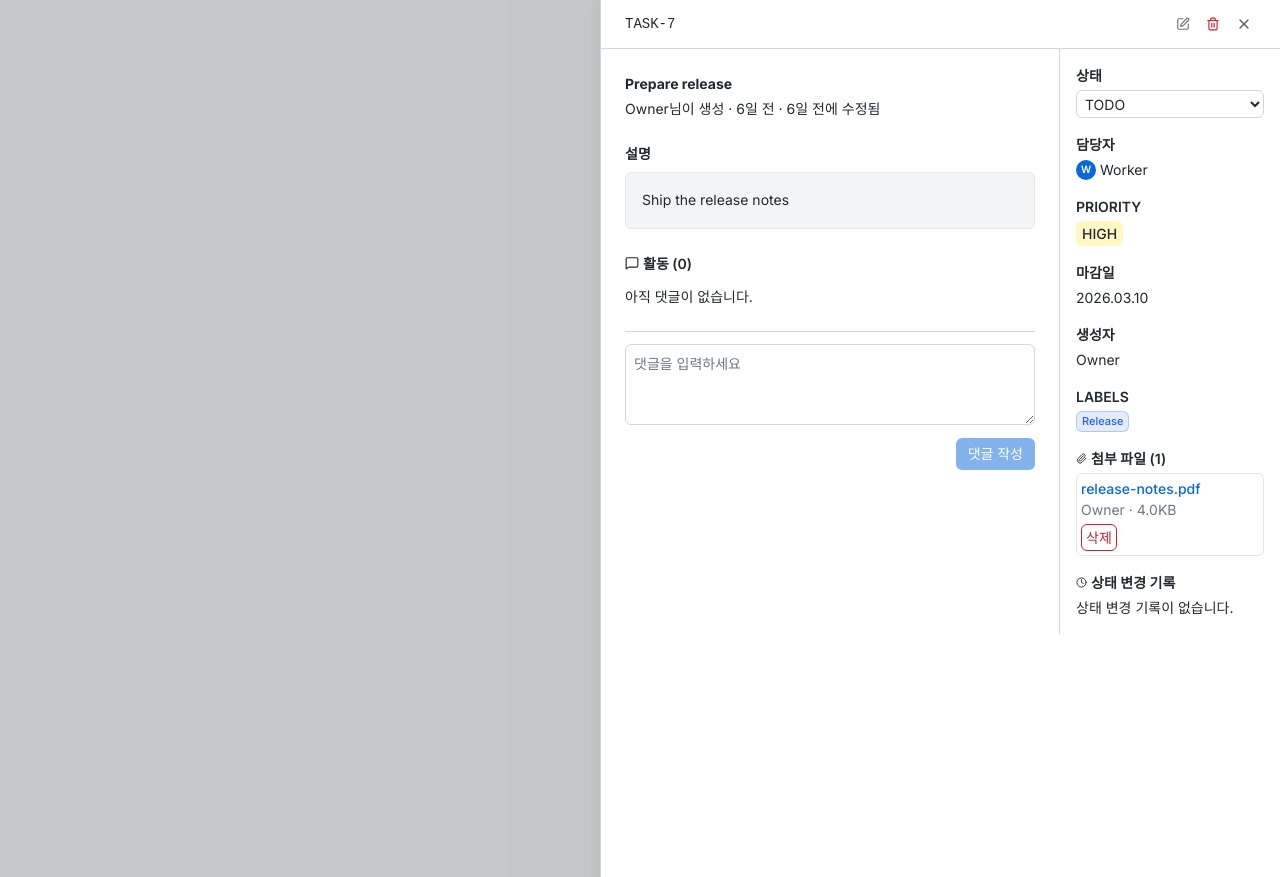
TaskDetailDrawer › edits task details and notifies parent after save
Check: the heading "Prepare release" is shown, box [625, 75, 732, 92]
Click the button named "Edit task". click: {"x": 1183, "y": 24}
box: [1172, 13, 1194, 35]
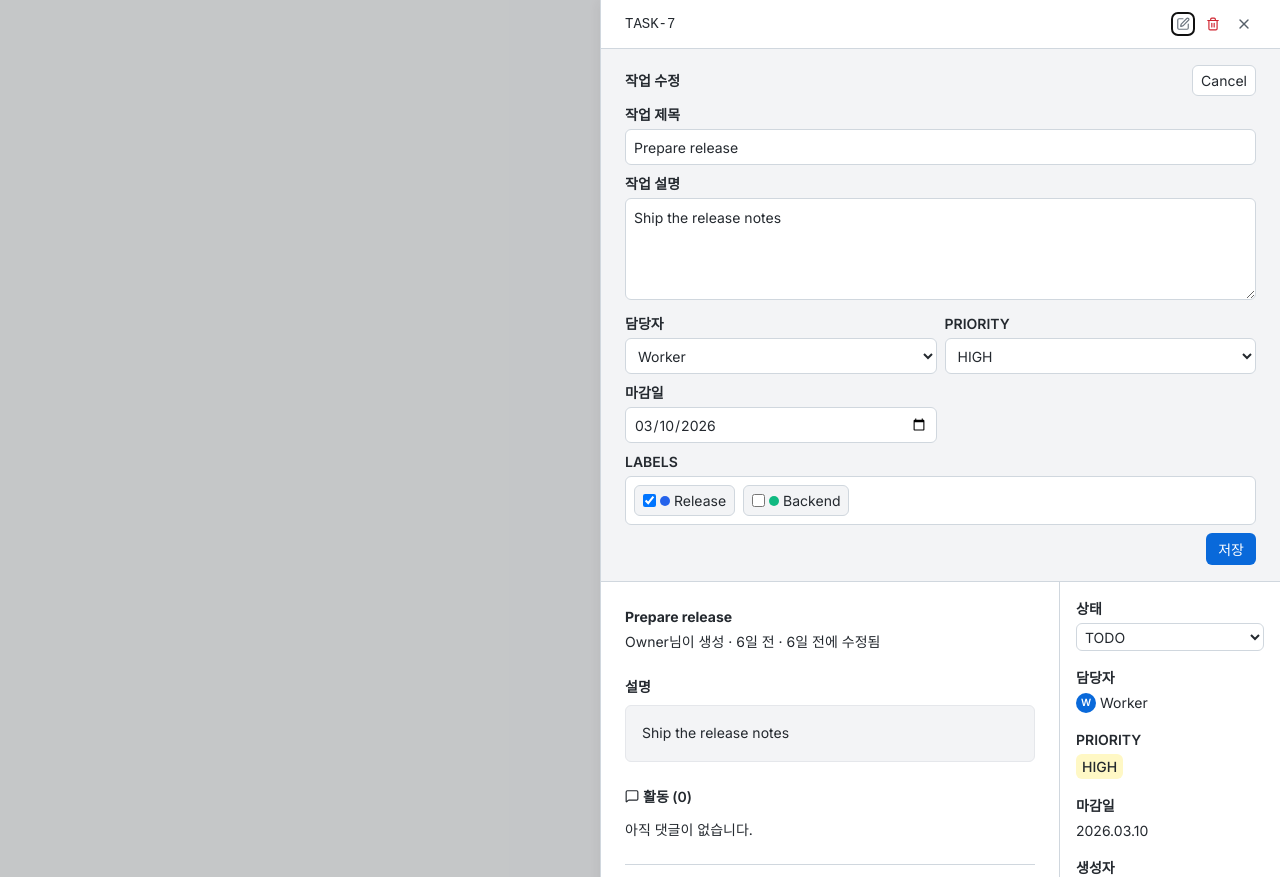
Replace the text in the field named "작업 제목" with "Prepare final release". click: {"x": 940, "y": 147}
box: [625, 129, 1256, 165]
Replace the text in the text box named "작업 설명" with "Ship the final release notes". click: {"x": 940, "y": 249}
box: [625, 198, 1256, 300]
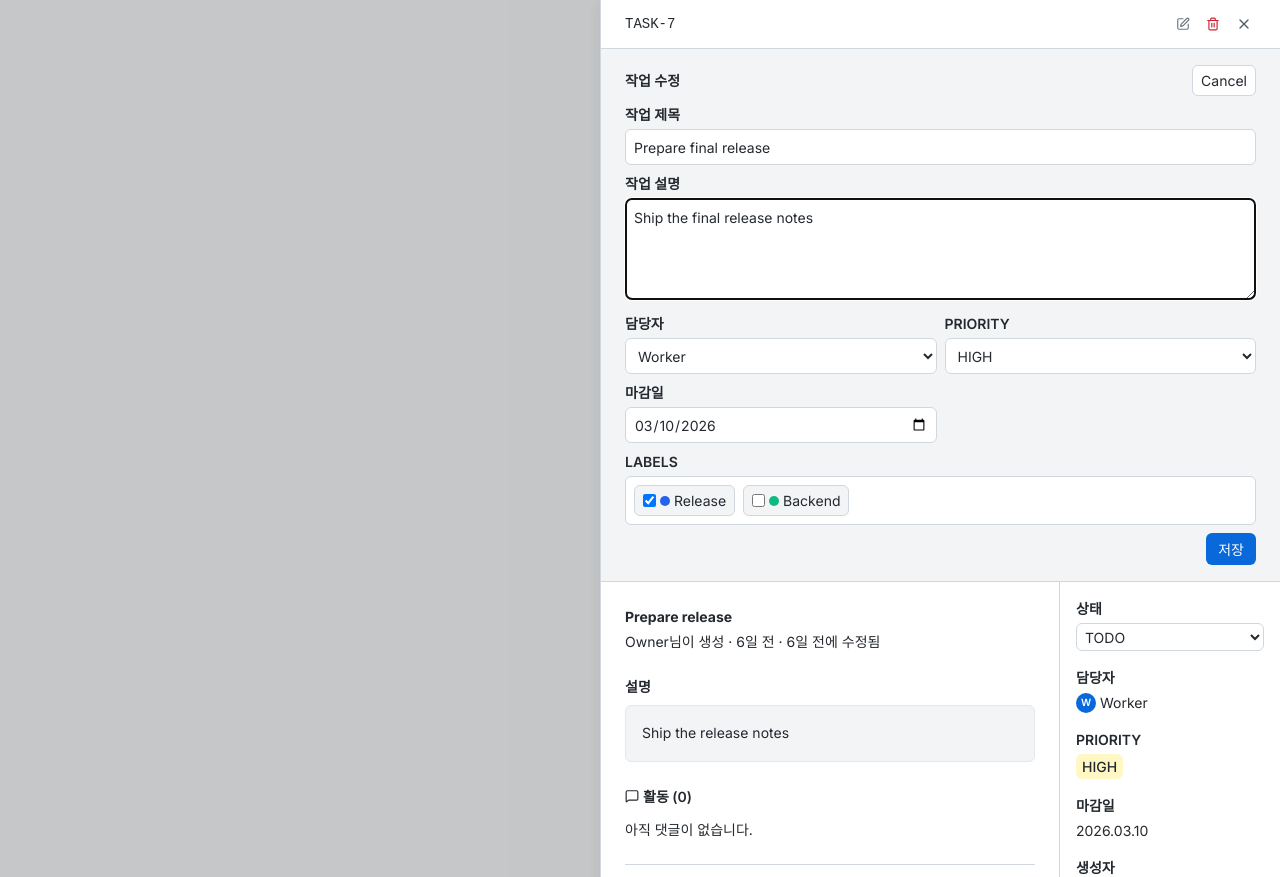
Select "Reviewer" in the dropdown named "담당자". click: {"x": 781, "y": 356}
box: [625, 338, 936, 374]
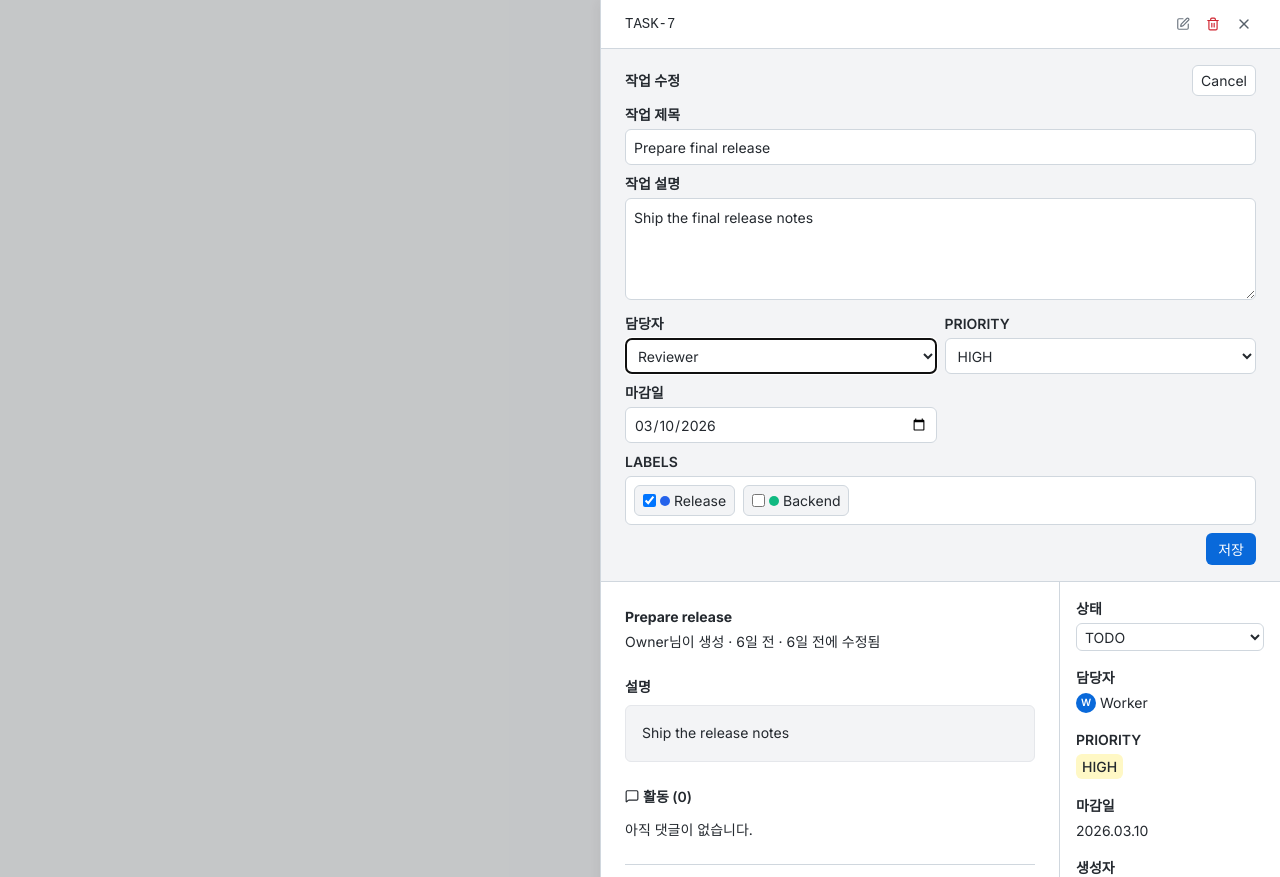
Click the checkbox labelled "Release". click: {"x": 650, "y": 500}
box: [643, 494, 656, 507]
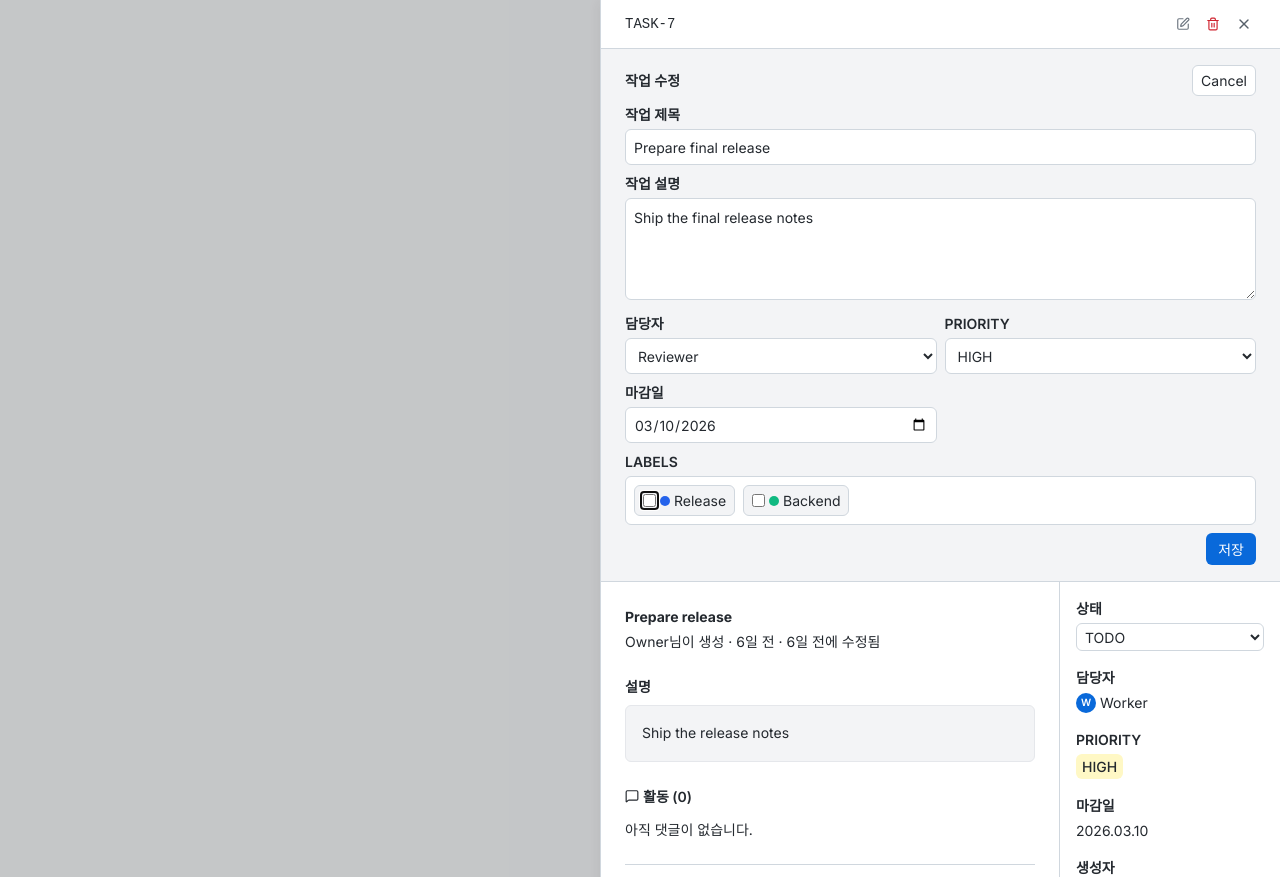
Click the checkbox labelled "Backend". click: {"x": 759, "y": 500}
box: [752, 494, 765, 507]
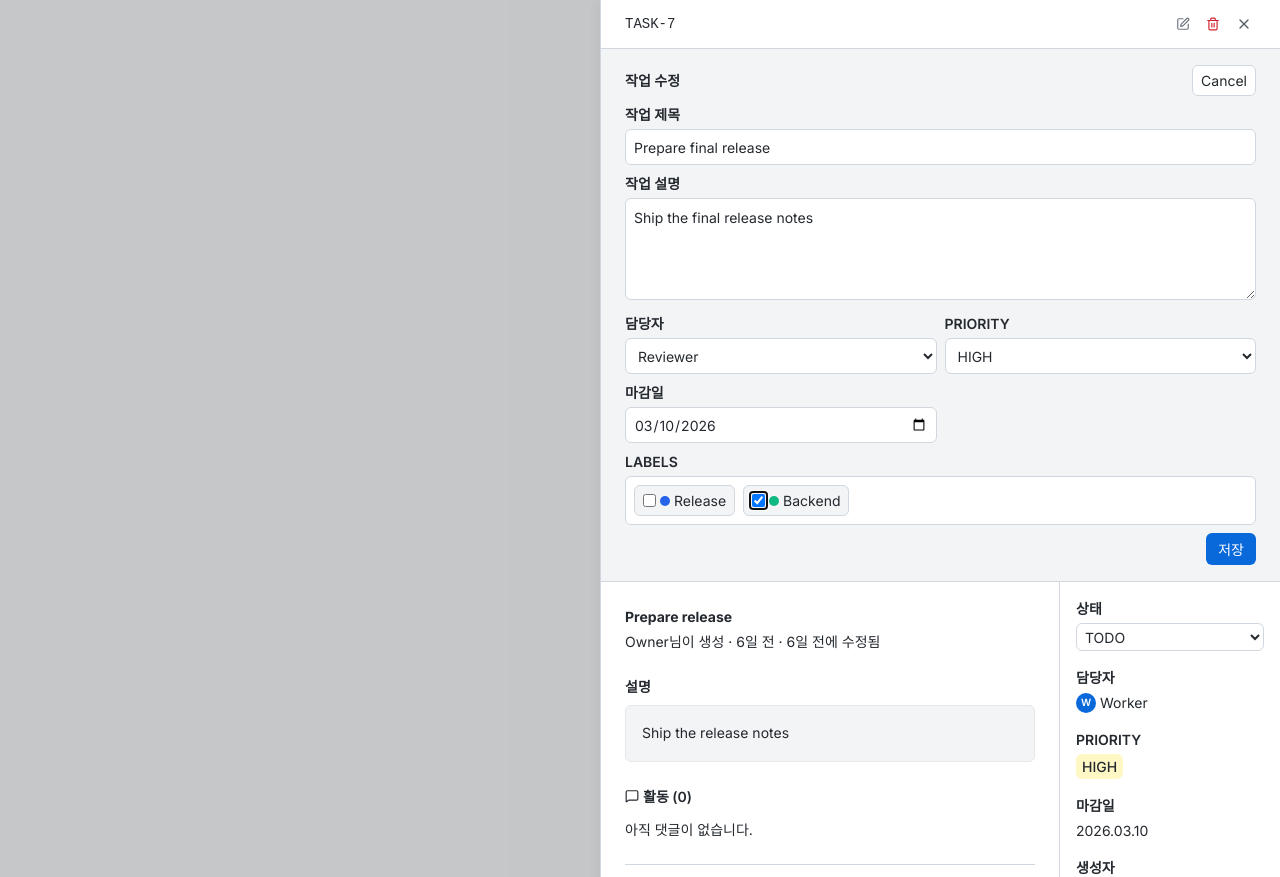
Click the button "저장". click: {"x": 1231, "y": 549}
box: [1206, 533, 1256, 565]
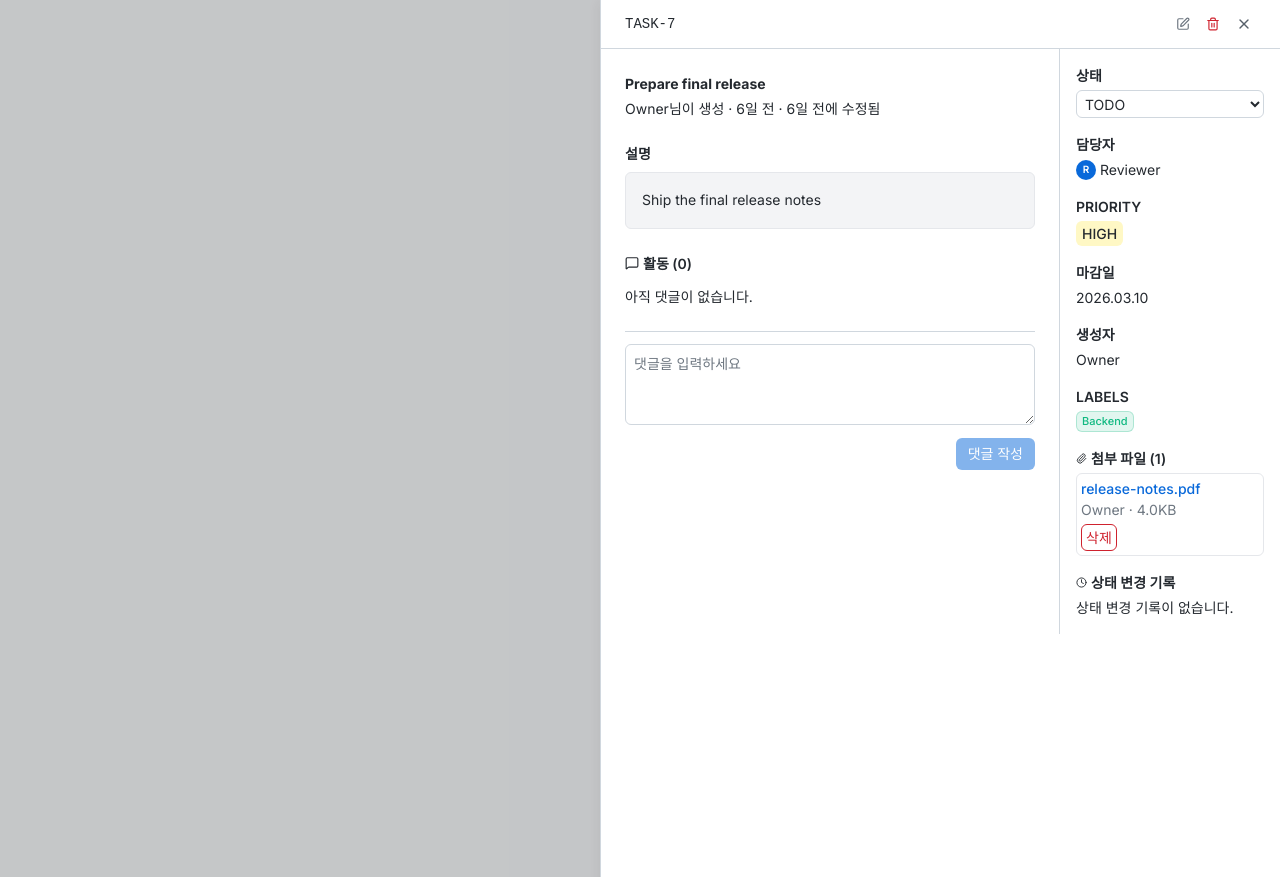
Check: the text "Backend" is shown, box [1076, 411, 1134, 432]
Check: the heading "Prepare final release" is shown, box [625, 75, 766, 92]
Check: the text "Reviewer" is shown, box [1100, 159, 1160, 180]
